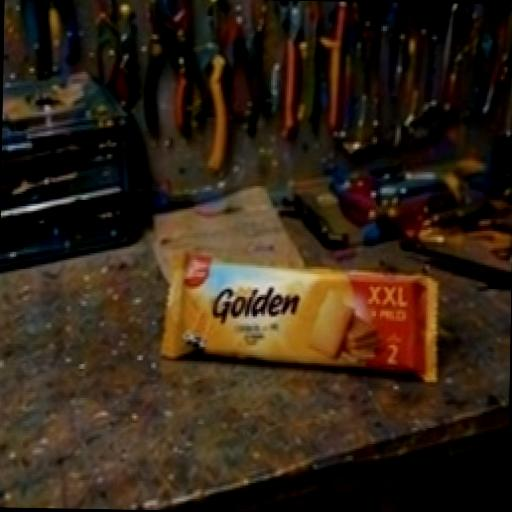golden: (145, 170, 458, 427)
